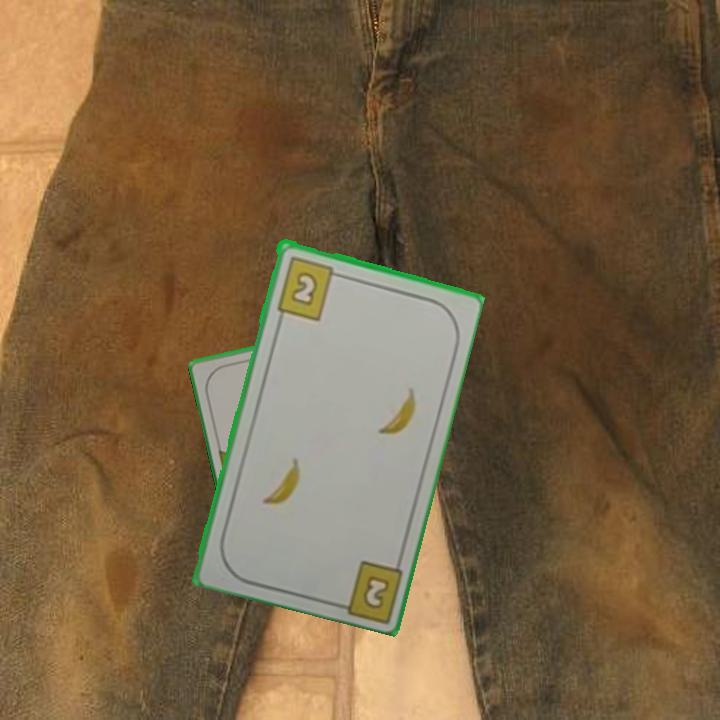2b: (273, 252, 345, 322), (359, 571, 392, 612)
